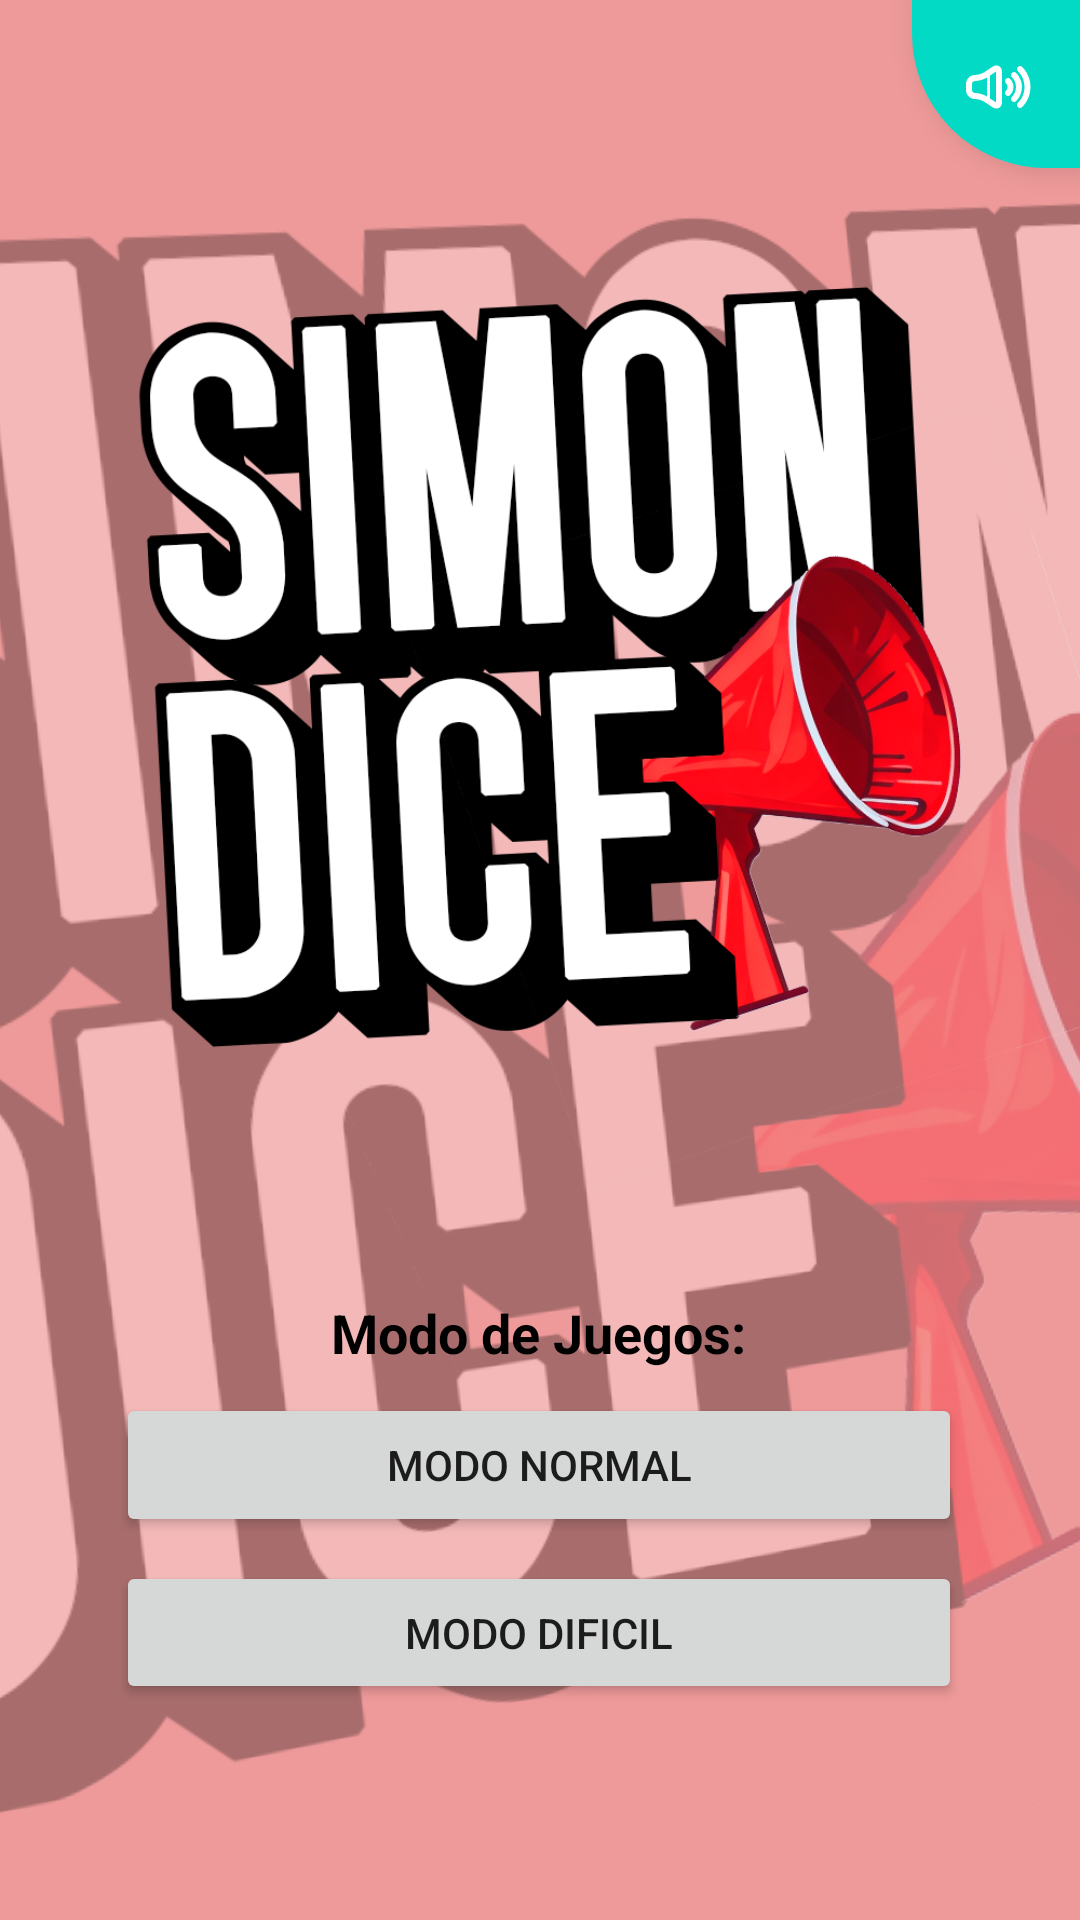

Icons on this 1080 x 1920 Android screen, each with the point to tap as (x,y):
volume up: (996,84)
